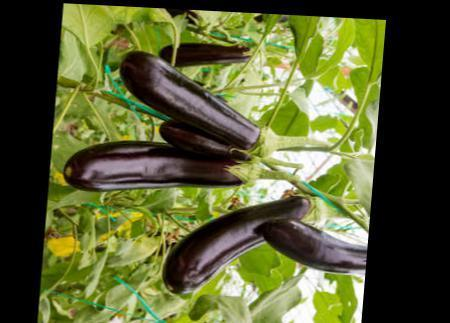eggplant: (84, 15, 316, 240)
